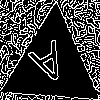A: (27, 39, 73, 96)
